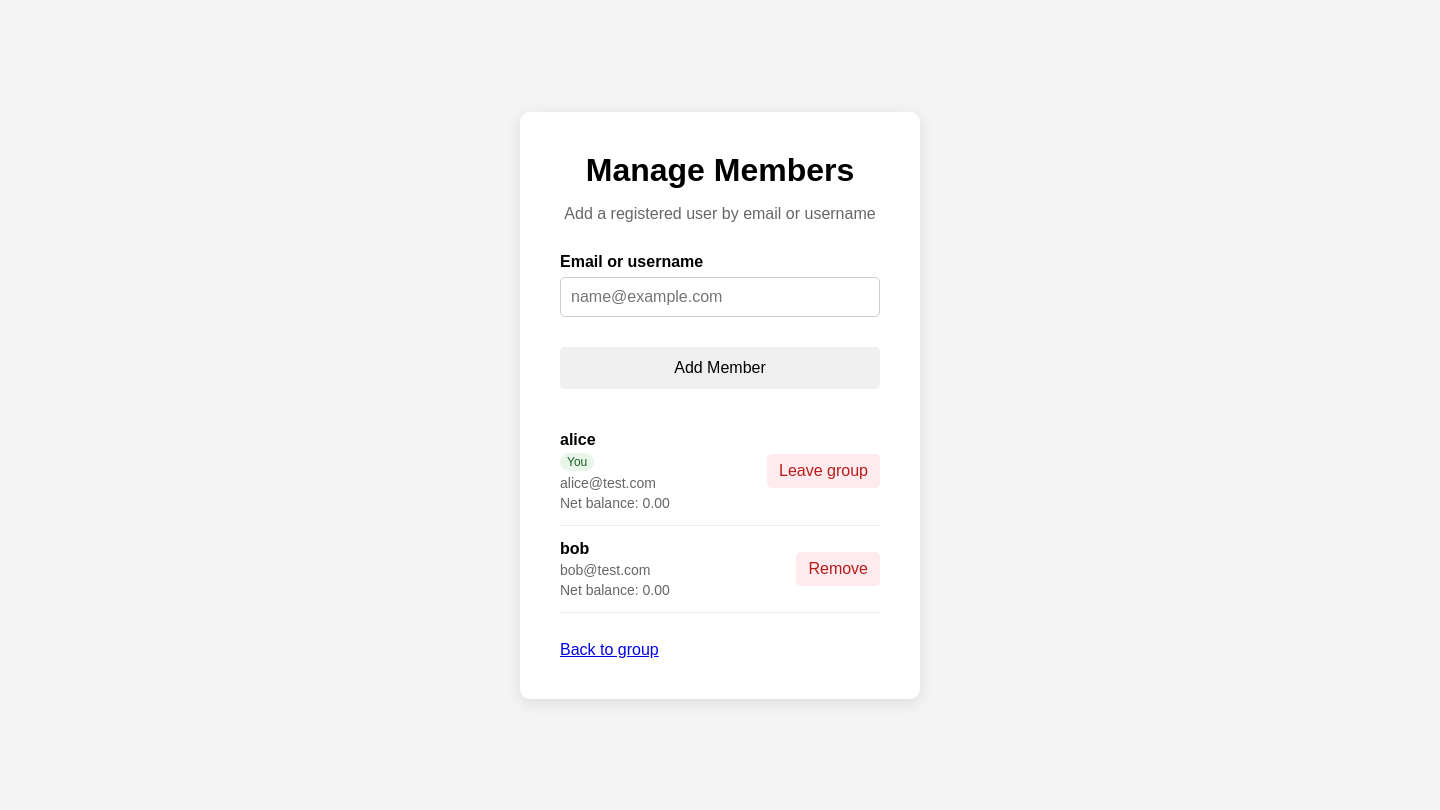
Test: AC4: removes a member with a zero balance
Expected: the text "bob" is shown, [560,540,589,556]
Click the button "Remove": x=838, y=568 [796,552,880,586]
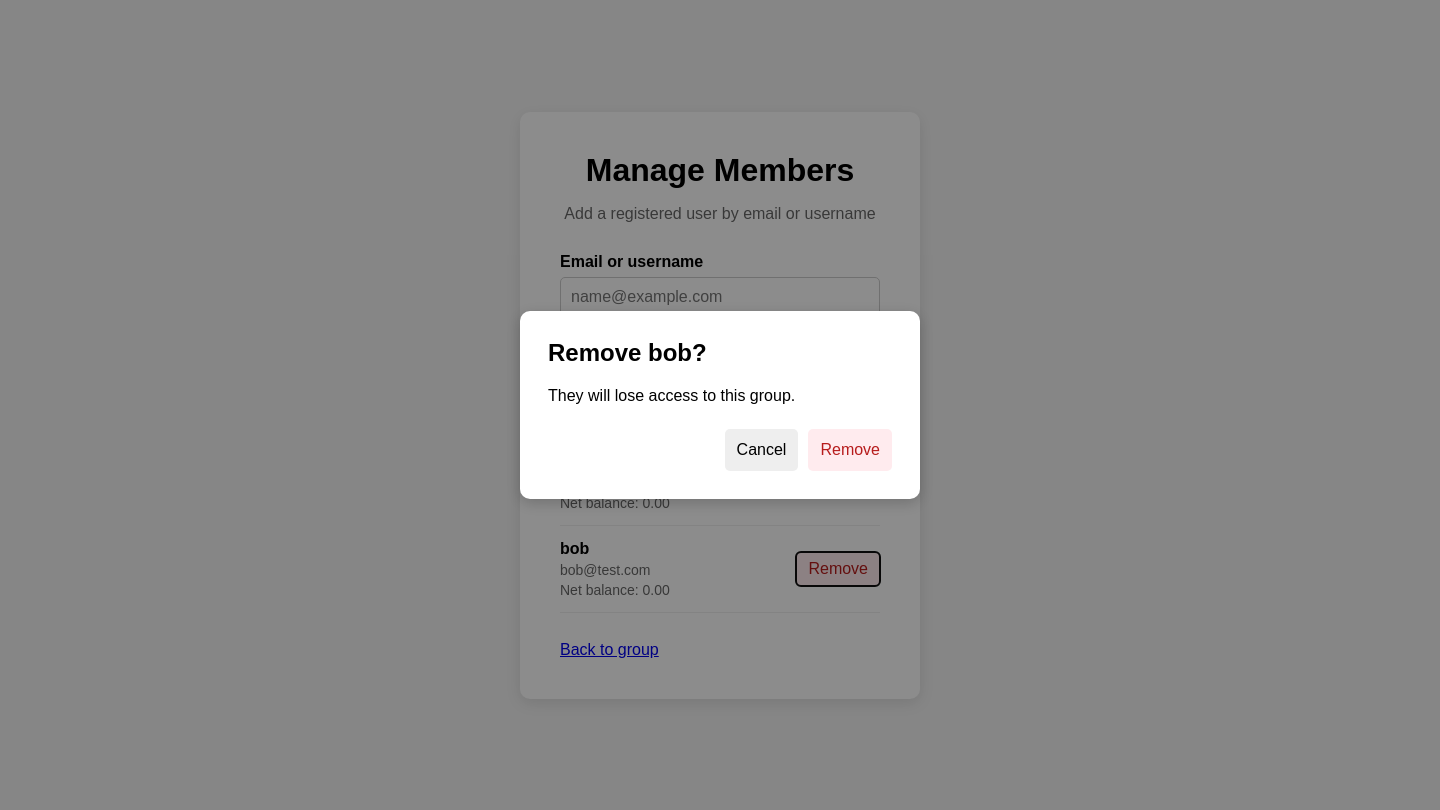
Click the button "Remove": x=850, y=450 [808,429,892,471]
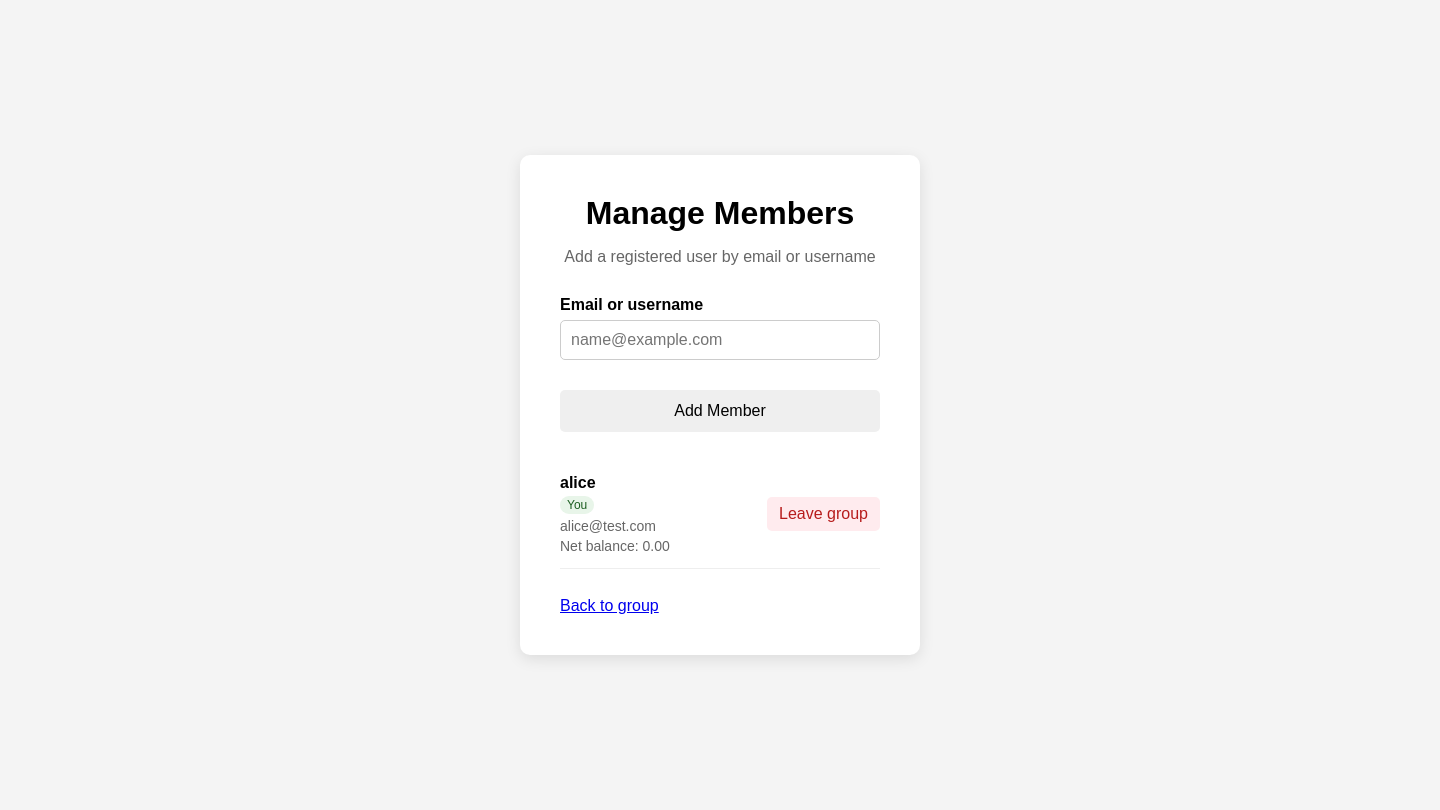
Expected: the text "bob" is gone
